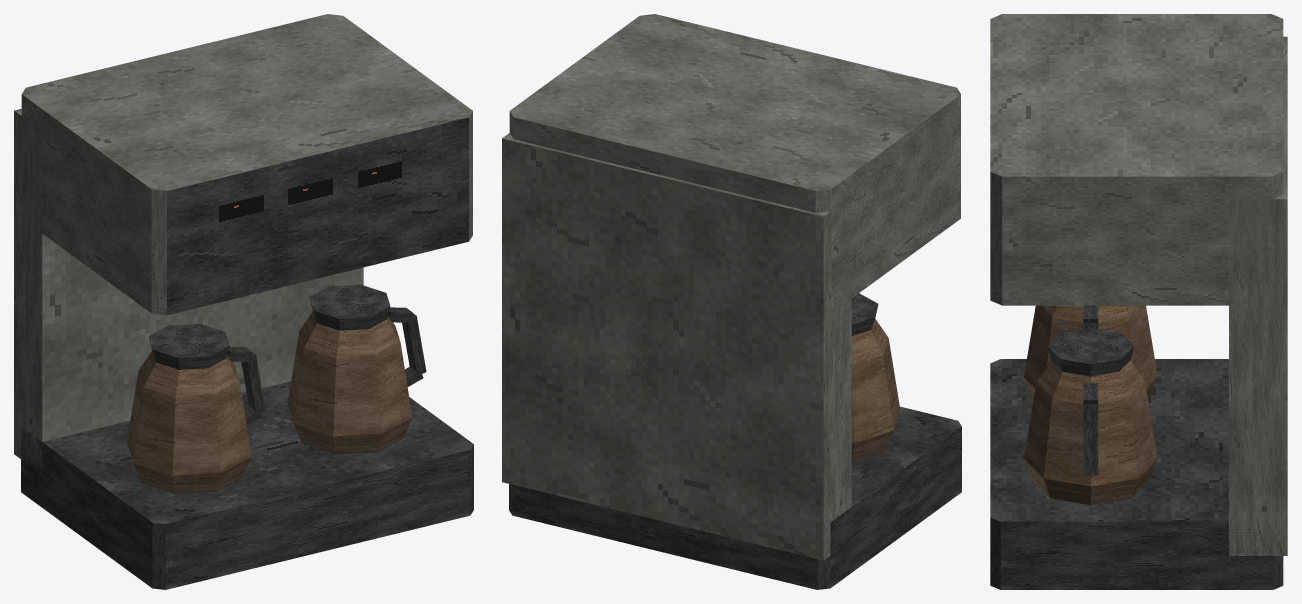
Rendered from coffee_machine.glb.
3 views of the same model, side by side, from view 1: azimuth 30°, elevation 25°; view 2: azimuth 150°, elevation 25°; view 3: azimuth 270°, elevation 25° (orthographic). The views are drawn at different scales.
Parts seen in each view (by area): view 1: Body; view 2: Body; view 3: Body.
Boxes of the visible parts, x1,y1,x2,y2 form: Body: (14, 14, 473, 589); Body: (502, 14, 961, 589); Body: (990, 14, 1287, 589).
Size of the model in its own units: 0.46 by 0.545 by 0.355.
1 material, 1 textured.
